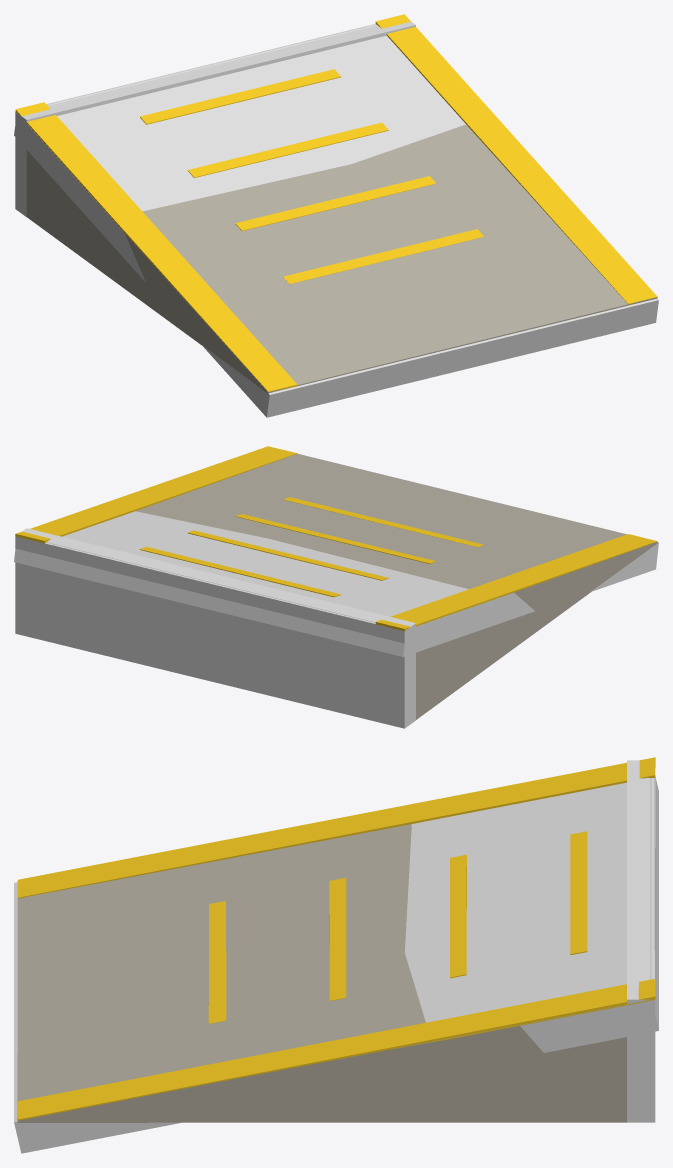
The model's file is env_ramp_a.glb.
3 renders of one model, top to bottom at view 1: azimuth 30°, elevation 25°; view 2: azimuth 150°, elevation 25°; view 3: azimuth 270°, elevation 25°, orthographic. The views are drawn at different scales.
Parts seen in each view (by area): view 1: env_ramp_a, COL_env_ramp_a_1, COL_env_ramp_a_2; view 2: env_ramp_a, COL_env_ramp_a_2, COL_env_ramp_a_1; view 3: env_ramp_a, COL_env_ramp_a_1, COL_env_ramp_a_2.
Part boxes in pixels (box(x1,y1,x2,y2)): env_ramp_a: box(15, 14, 657, 393); COL_env_ramp_a_1: box(14, 25, 658, 417); COL_env_ramp_a_2: box(15, 21, 415, 216); env_ramp_a: box(15, 446, 657, 719); COL_env_ramp_a_2: box(15, 528, 415, 728); COL_env_ramp_a_1: box(14, 511, 658, 656); env_ramp_a: box(17, 757, 655, 1122); COL_env_ramp_a_1: box(14, 776, 658, 1153); COL_env_ramp_a_2: box(627, 760, 655, 1122).
Bounding box in the file's own units: 4 × 1.22 × 4.55.
